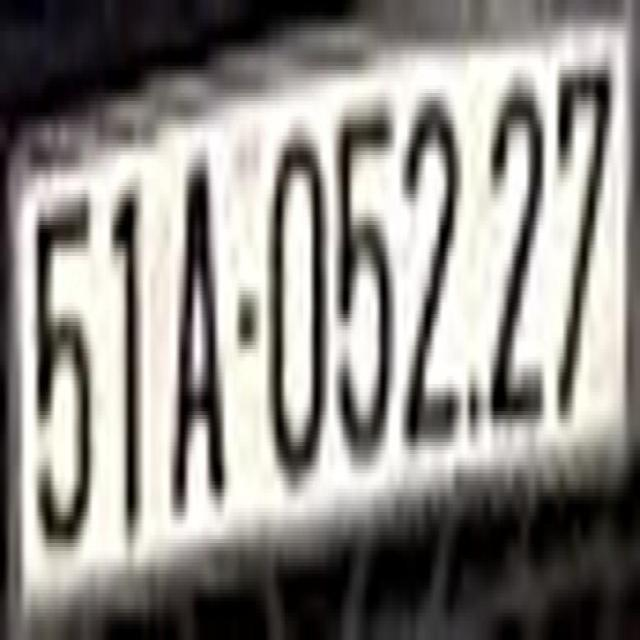0: (266, 105, 322, 492)
1: (112, 171, 144, 544)
2: (401, 89, 463, 446), (486, 86, 545, 434)
5: (340, 93, 394, 481), (34, 182, 90, 555)
7: (554, 54, 610, 430)
A: (172, 132, 226, 504)
